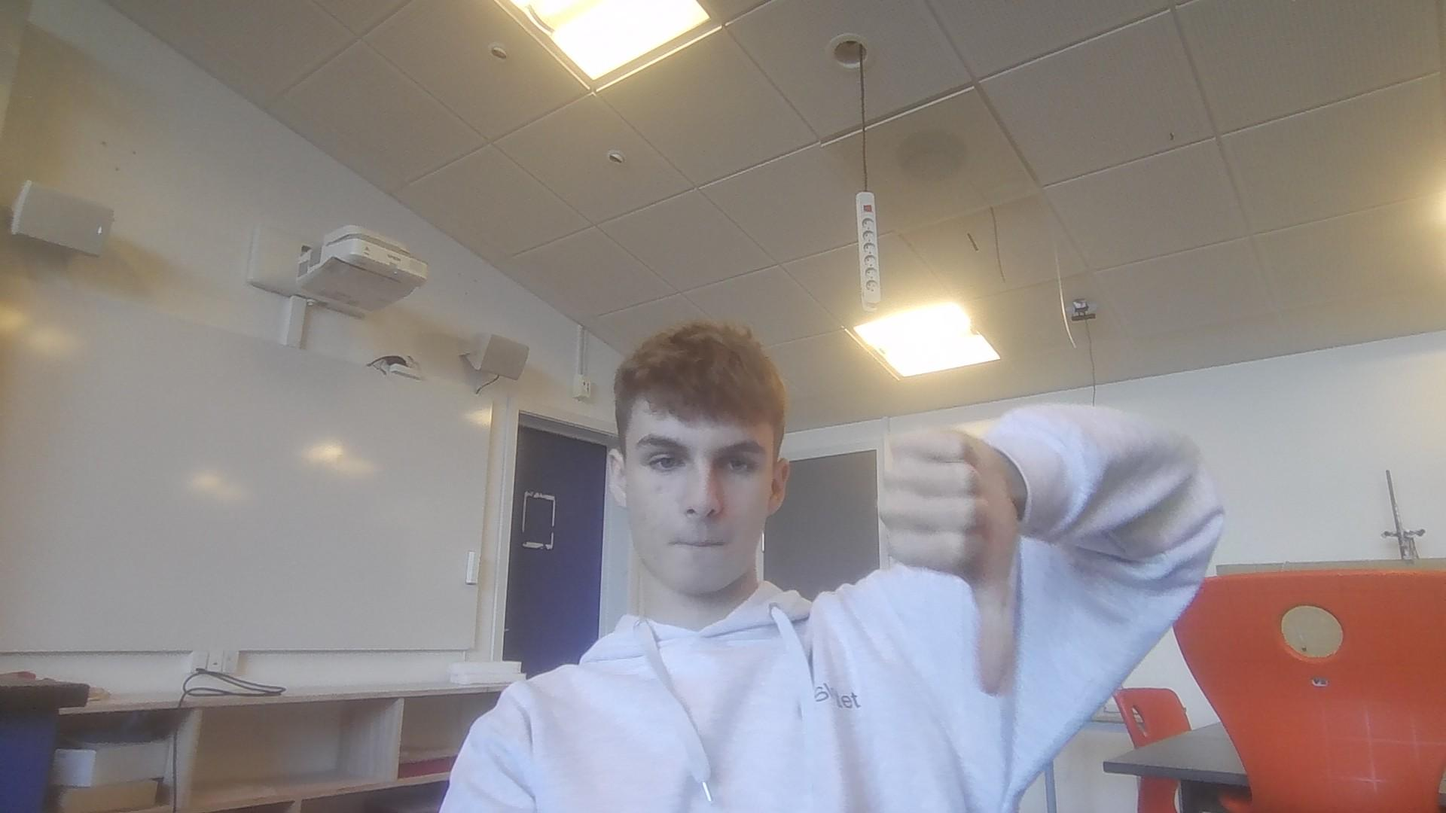thumbs down: (879, 420, 1027, 691)
